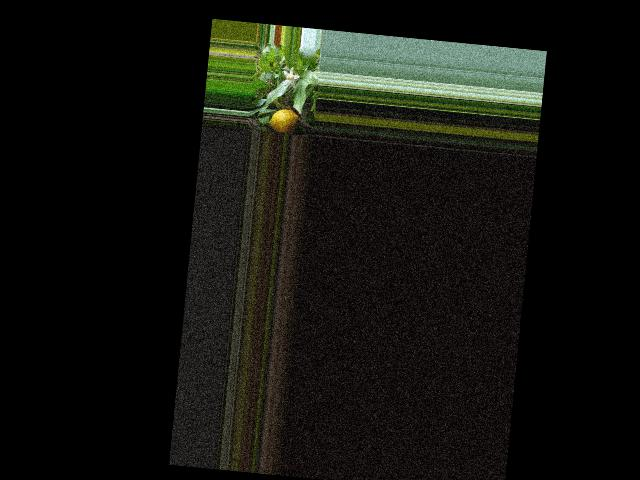lemon: (267, 104, 301, 134)
